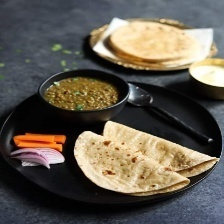sabzi: (39, 76, 125, 111)
